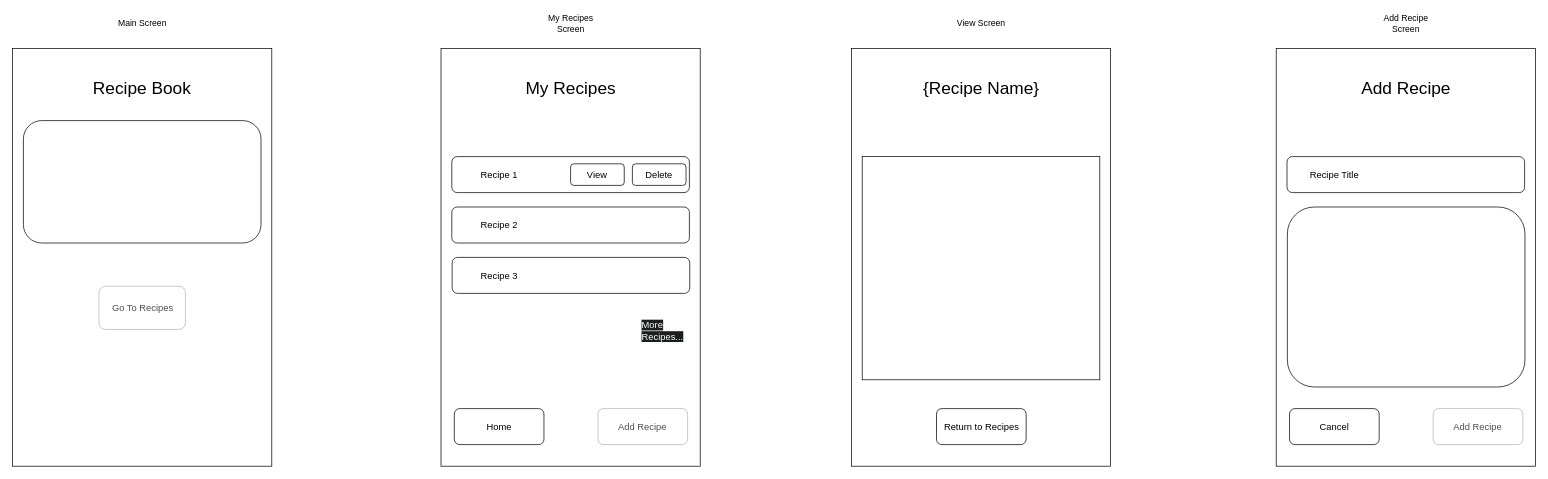
Image size: 1548x479. Some labels were removed from this diagram. The shapes that lost their labels are listed below. From the top down, each one's centre as x and y in pixels, then its label:
At [142,181]: "{Cover Image}".
At [980,268]: "{Recipe Ingredient Contents}".
At [1406,296]: "Recipe Ingredients and Instructions".
